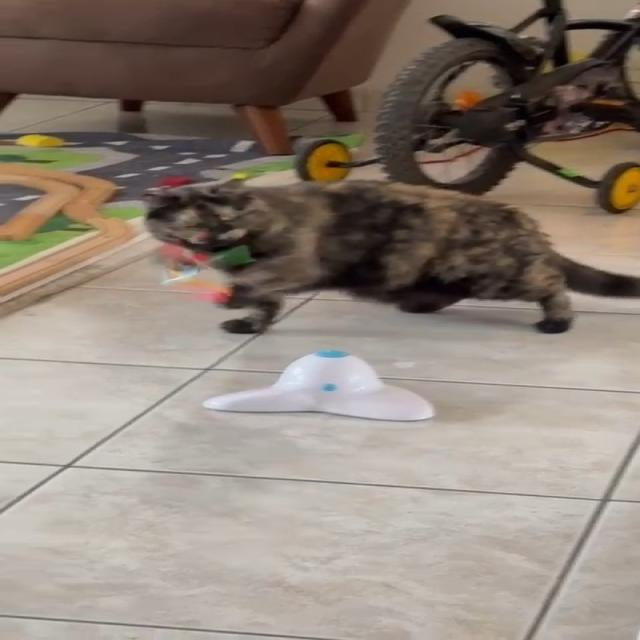authorized: (140, 177, 639, 335)
